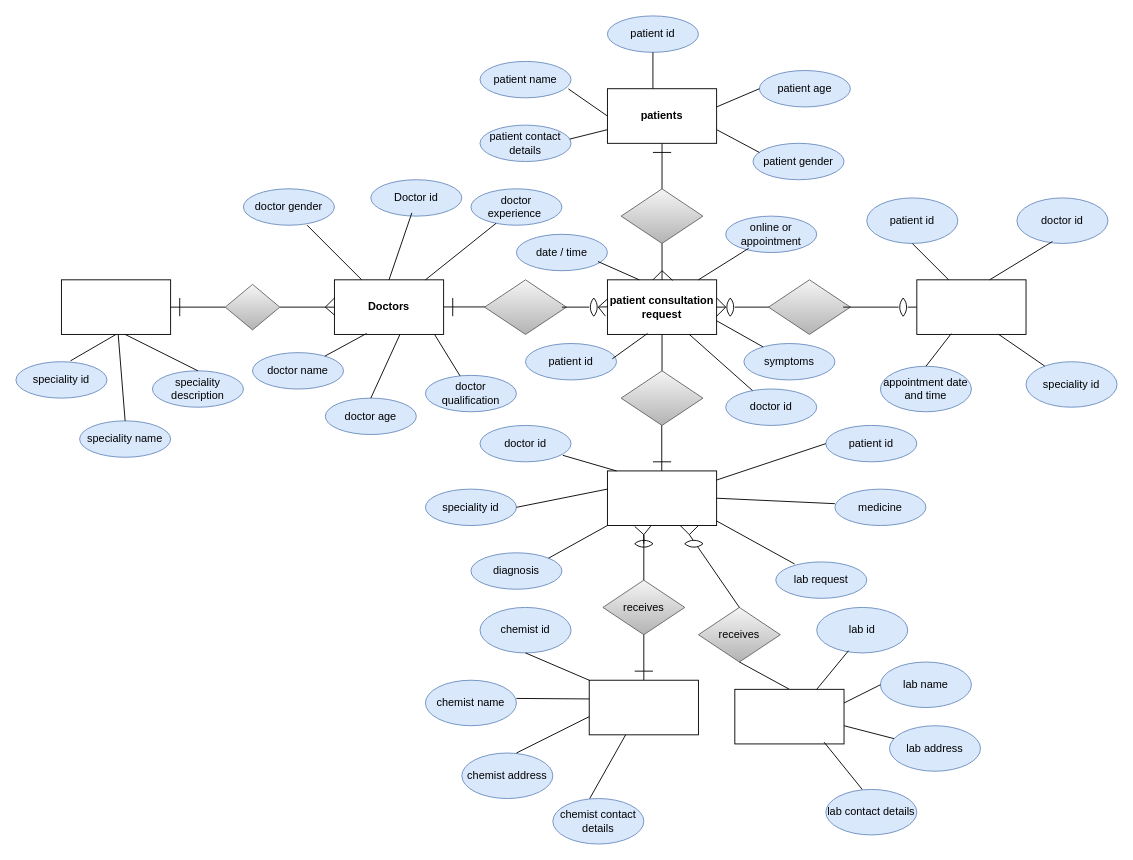
Some shapes in this 1133 by 860 pixel diagram are drawn without their labels. Here are the shapes that lost their labels. From the top down, the centre of each, then its label:
the point at 661,215: request
the point at 116,306: Speciality
the point at 252,306: has
the point at 525,306: provides consultation
the point at 809,306: contains
the point at 971,306: patient appointment file
the point at 661,397: generates
the point at 662,498: prescription
the point at 643,707: chemist
the point at 789,716: lab
